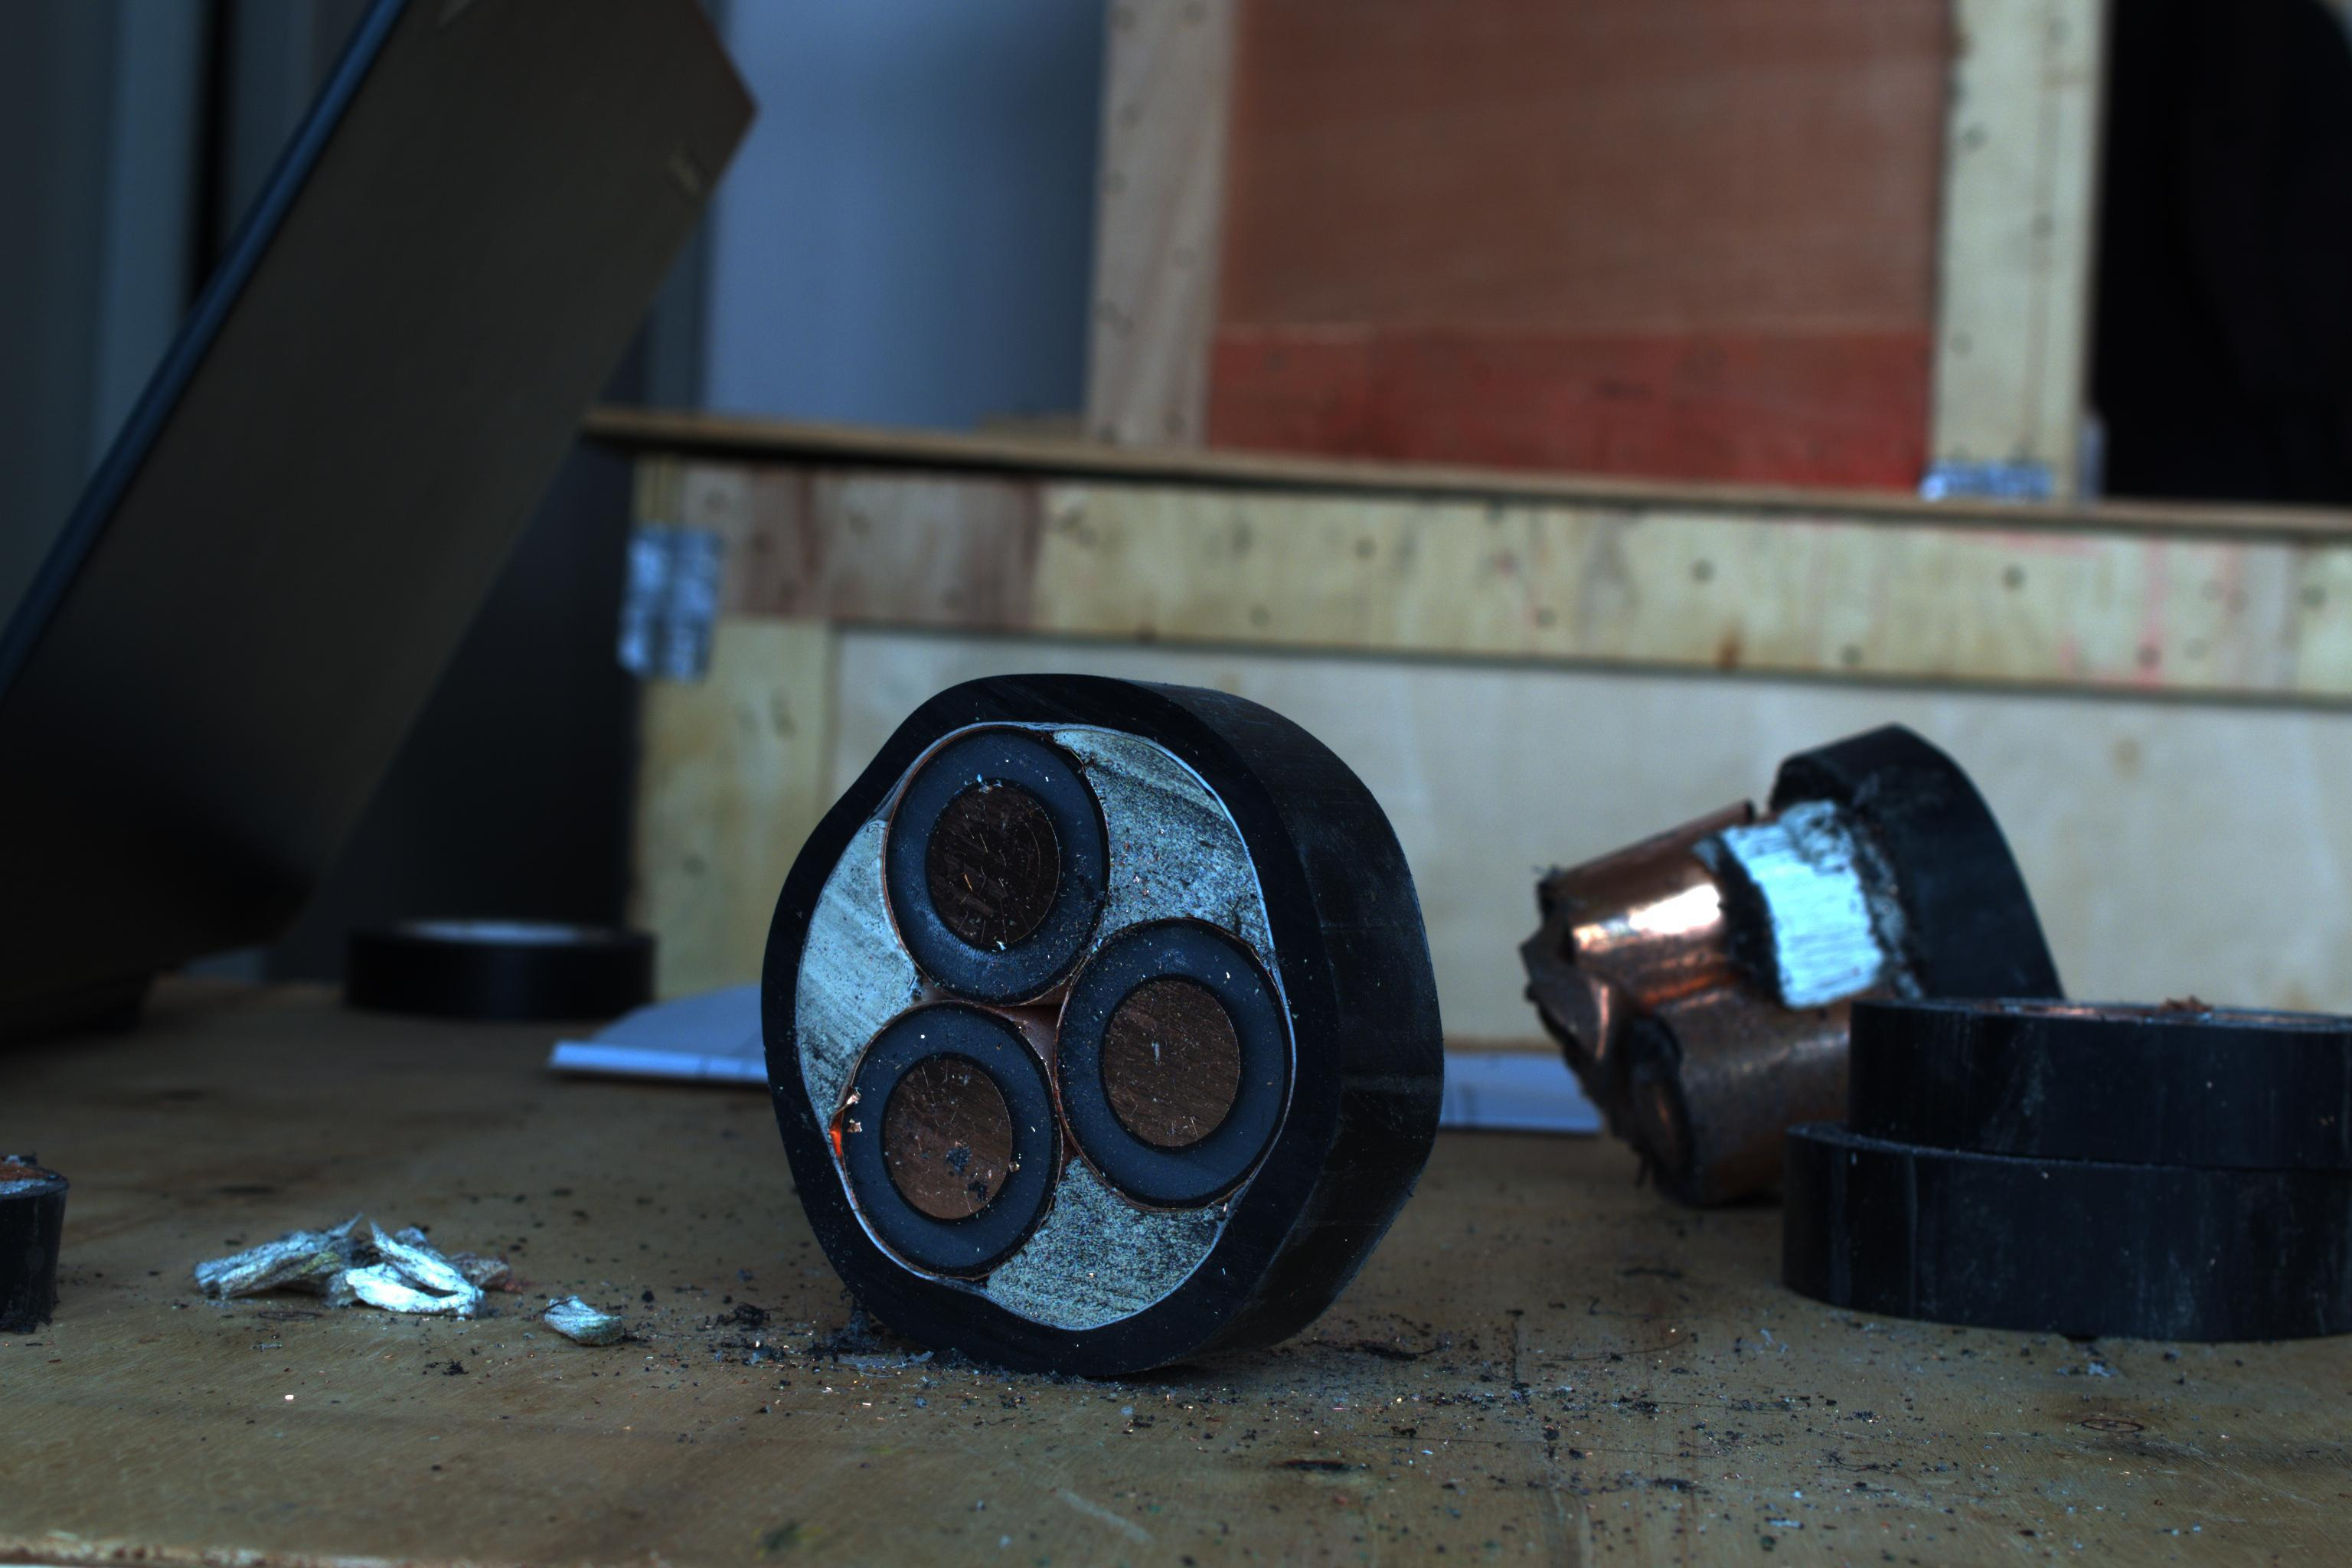ZA_YJV_8.7_10kV_3x240: (807, 684, 1337, 1353)
